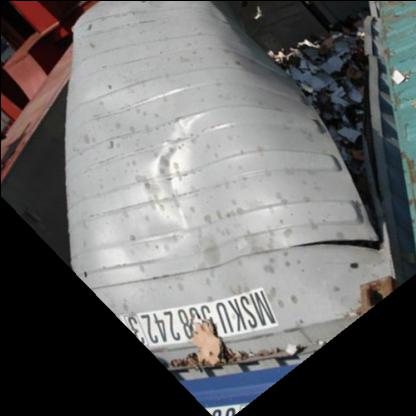Damage: (268, 21, 393, 211), (130, 280, 290, 366)
